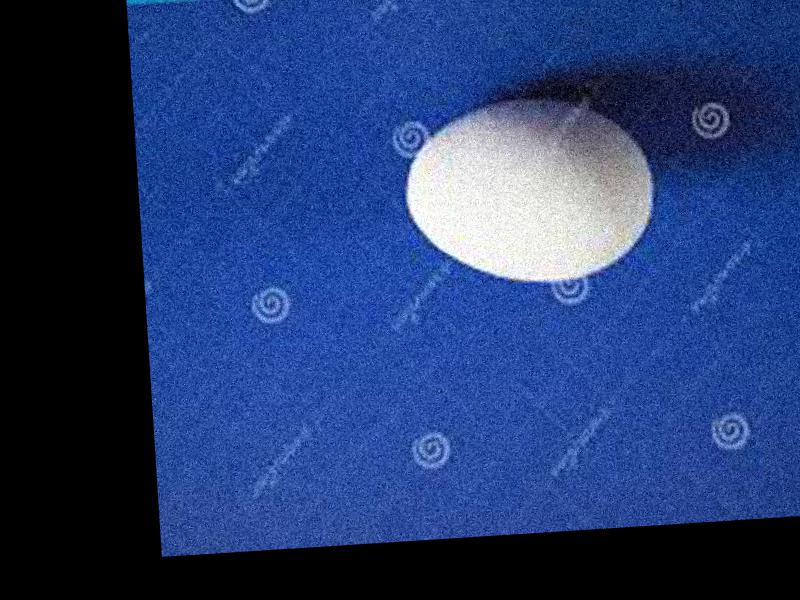Eggs: (399, 90, 659, 288)
